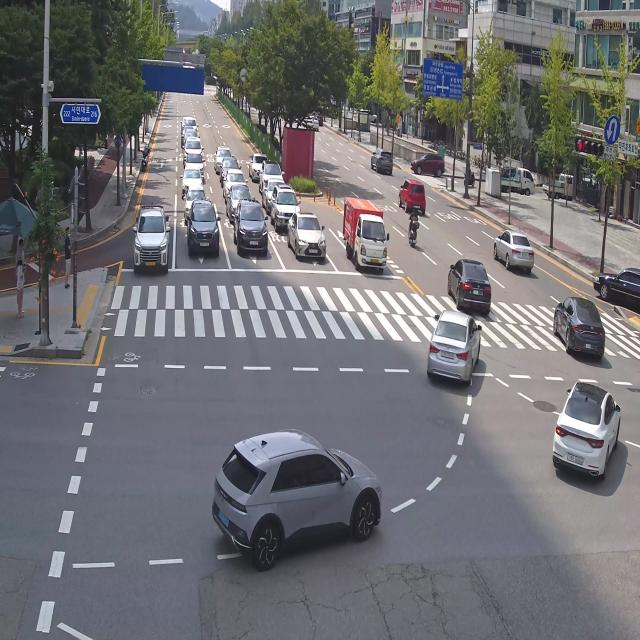Car: (206, 426, 392, 565), (527, 367, 628, 480), (418, 297, 492, 393), (545, 284, 606, 358), (130, 200, 177, 285), (443, 251, 494, 319), (590, 253, 640, 311), (229, 193, 270, 262), (286, 203, 328, 269), (493, 222, 536, 280), (187, 197, 224, 264), (270, 186, 306, 231), (396, 172, 427, 217), (410, 144, 446, 173), (260, 155, 286, 193), (182, 183, 208, 220), (366, 147, 396, 177), (186, 151, 213, 184), (262, 176, 287, 210), (228, 182, 252, 217), (213, 142, 236, 172), (248, 146, 267, 182), (182, 164, 206, 192), (218, 156, 241, 185), (224, 171, 247, 199), (182, 139, 206, 162), (182, 128, 200, 150), (185, 118, 200, 136), (180, 111, 192, 133), (308, 113, 322, 130)
Motorcycle: (403, 204, 421, 248), (140, 139, 152, 177)
Truck: (336, 192, 391, 286), (492, 156, 538, 201), (542, 166, 578, 204)
